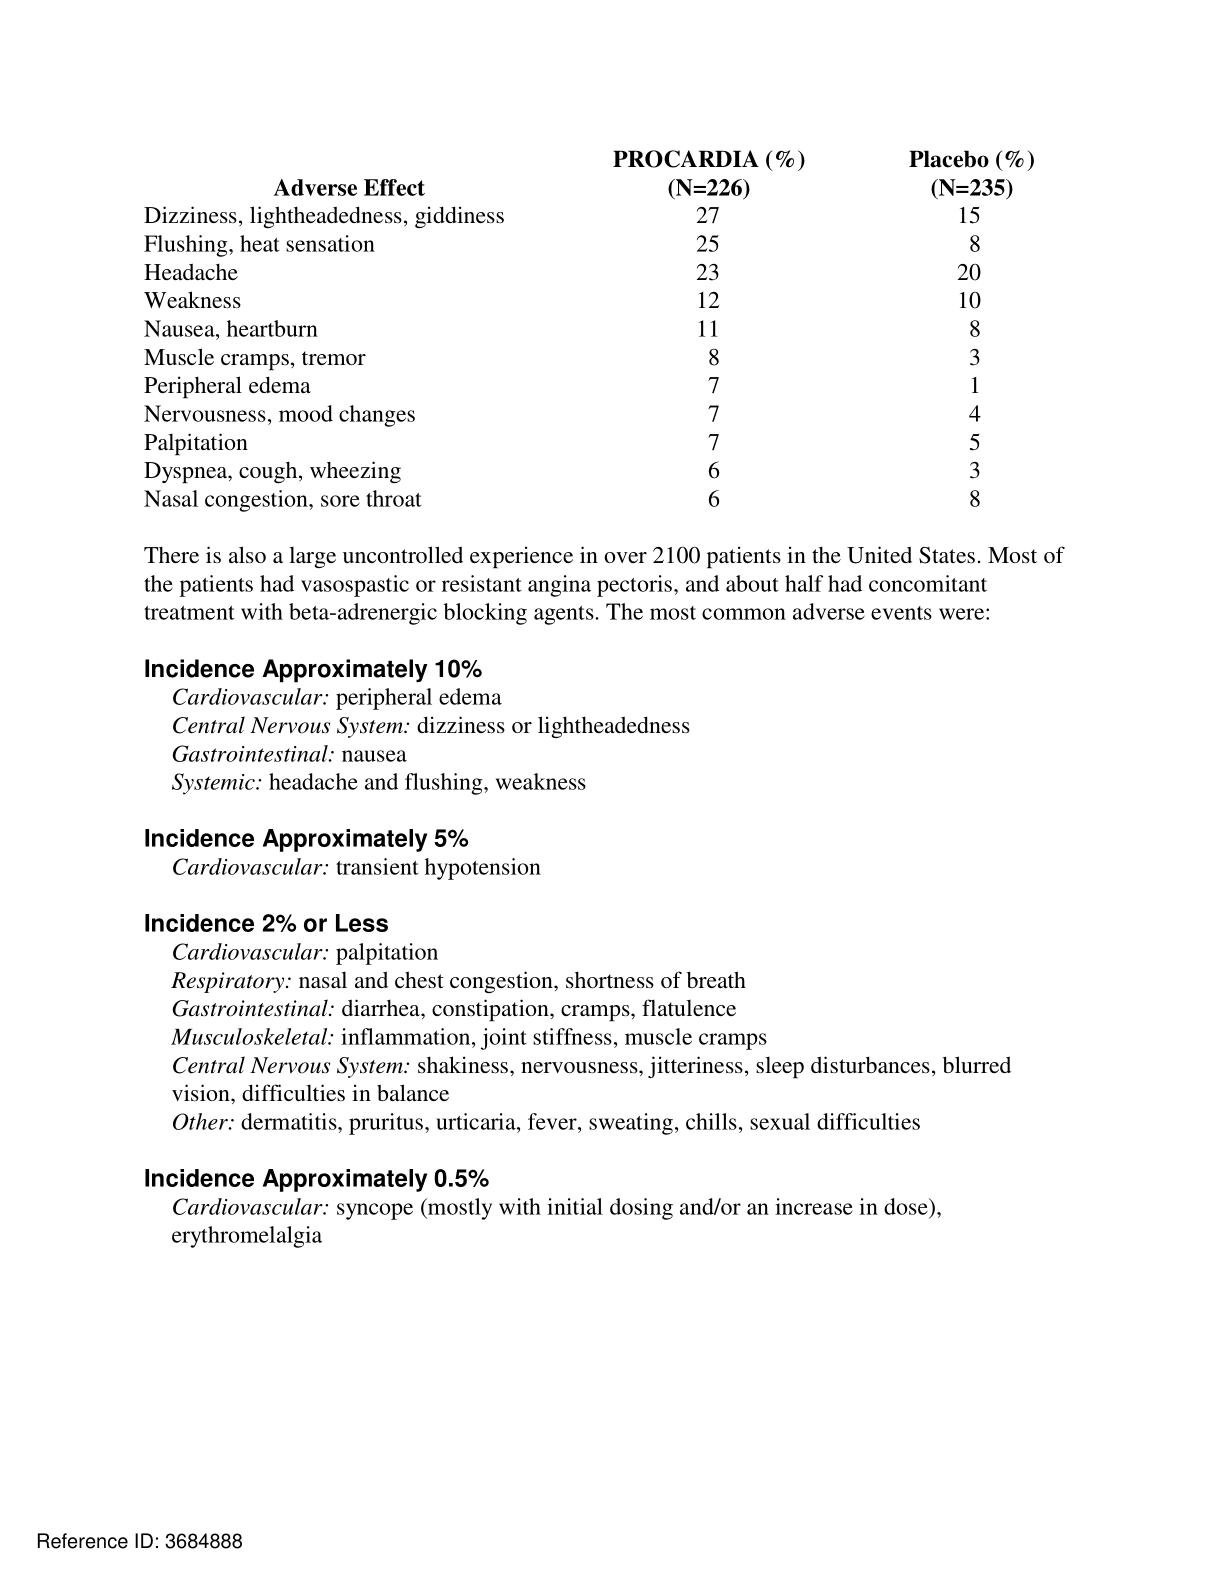nolines: (141, 147, 1038, 510)
